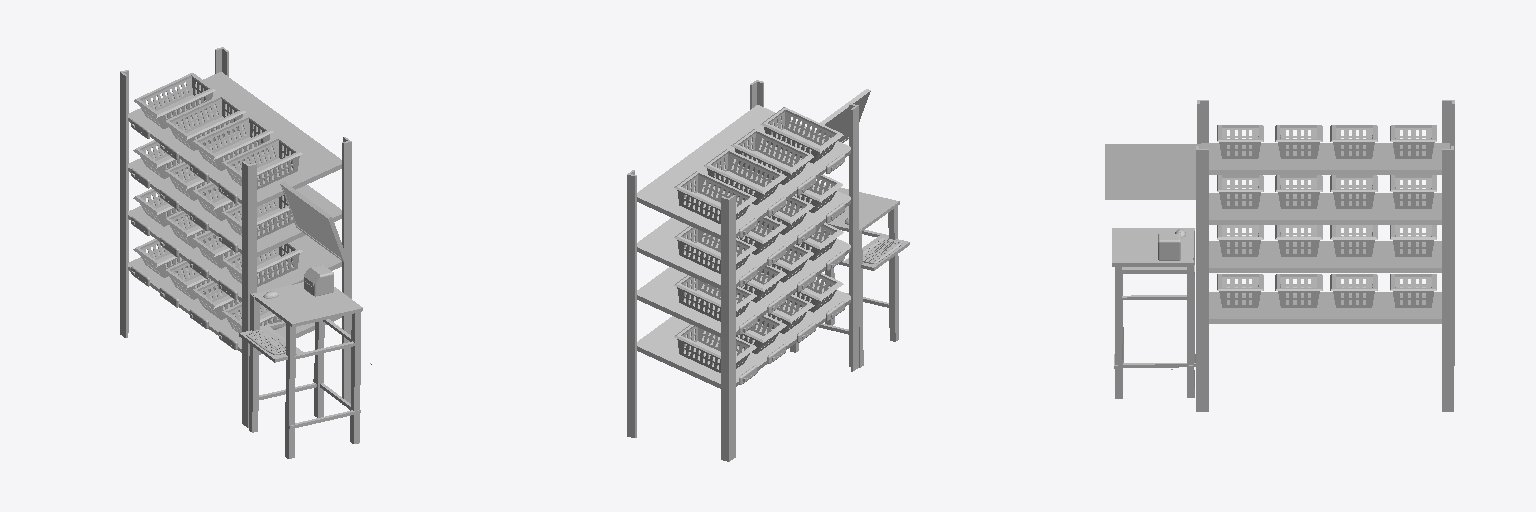
Rendered from fenjianqiang_terminal_at_right.obj.
3 renders of one model, left to right at view 1: azimuth 30°, elevation 25°; view 2: azimuth 150°, elevation 25°; view 3: azimuth 270°, elevation 25°, orthographic.
Visible parts, largest first — view 1: 工作台1.obj.1; view 2: 工作台1.obj.1; view 3: 工作台1.obj.1.
Boxes of the visible parts, x1=… form: 工作台1.obj.1: x1=120, y1=47, x2=371, y2=458; 工作台1.obj.1: x1=627, y1=80, x2=909, y2=461; 工作台1.obj.1: x1=1105, y1=100, x2=1454, y2=411.
Size of the model in its own units: 57.55 by 118 by 142.